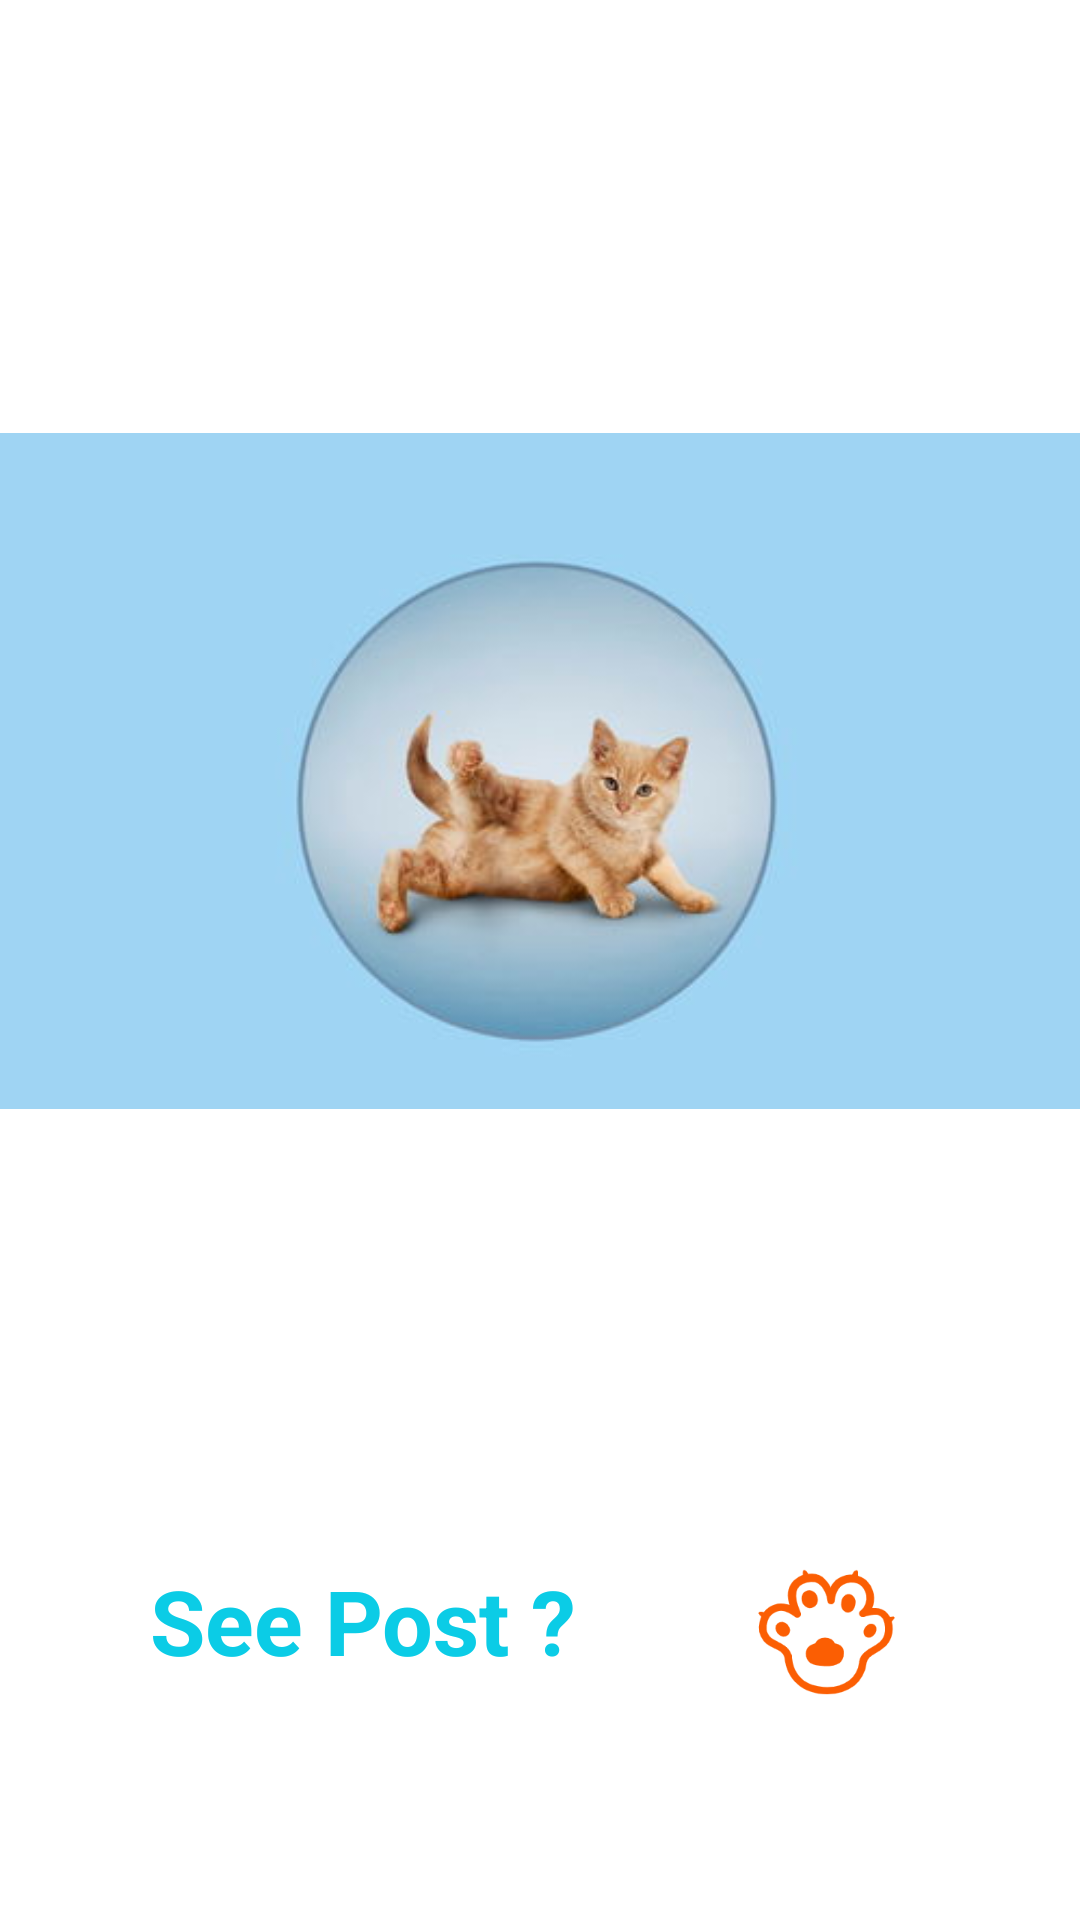

Screen size 1080px×1920px. Icon name, then its center in pixels as (x=x, y=y):
home paw: (x=826, y=1632)
